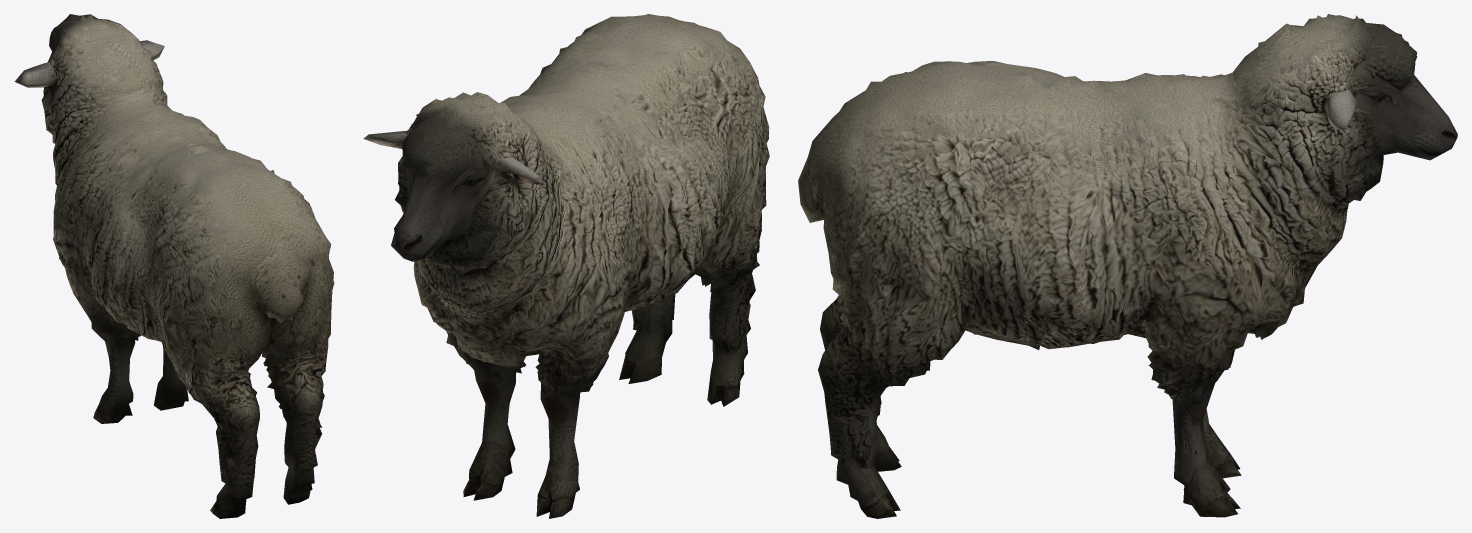
The model's file is sheep.glb.
The picture shows the model from 3 angles, left to right: view 1: azimuth 30°, elevation 25°; view 2: azimuth 150°, elevation 25°; view 3: azimuth 270°, elevation 25°; orthographic projection. The views are drawn at different scales.
Visible parts, largest first — view 1: sheep; view 2: sheep; view 3: sheep.
Boxes of the visible parts, bbox=[...] form: sheep: bbox=[14, 14, 334, 518]; sheep: bbox=[363, 14, 769, 518]; sheep: bbox=[798, 14, 1457, 518].
Bounding box in the file's own units: 0.5373 × 0.9942 × 1.25.
Materials: 1 (1 with a texture image).
